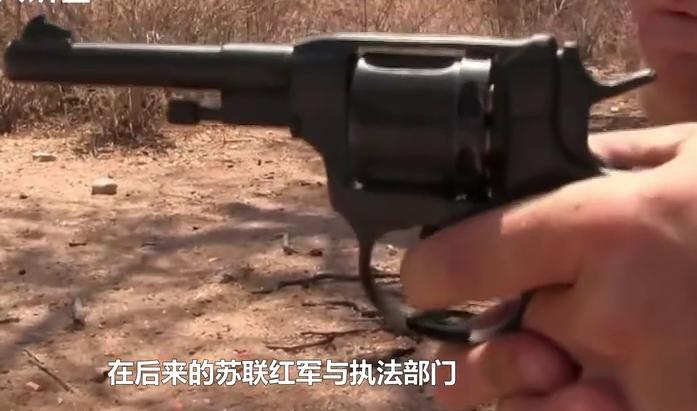gun: (1, 0, 697, 411)
